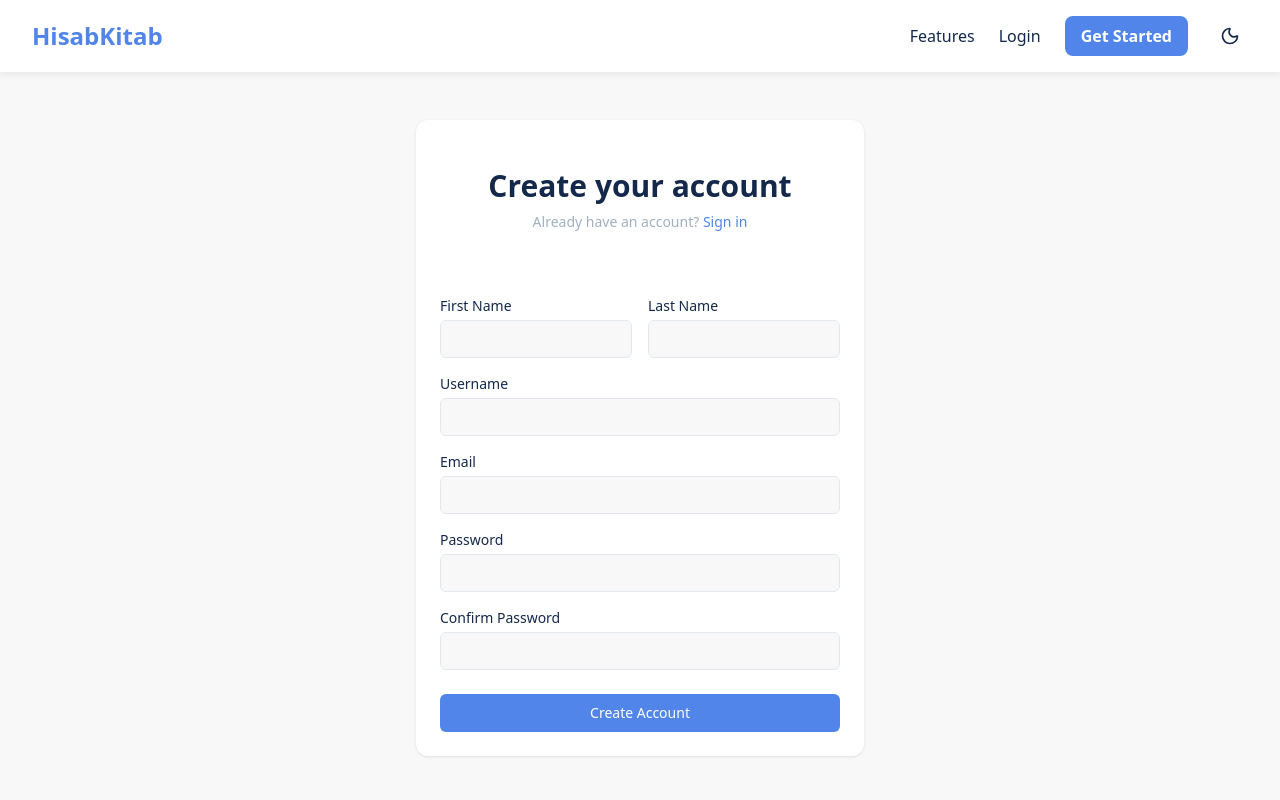
Test: Register Page › should show an error if passwords do not match
Step 1. Type "Yours2" into the field labelled "First Name" → point(536, 339), box x1=440 y1=320 x2=632 y2=358
Step 2. Type "Dev" into the field labelled "Last Name" → point(744, 339), box x1=648 y1=320 x2=840 y2=358
Step 3. Type "yours2dev" into the field labelled "Username" → point(640, 417), box x1=440 y1=398 x2=840 y2=436
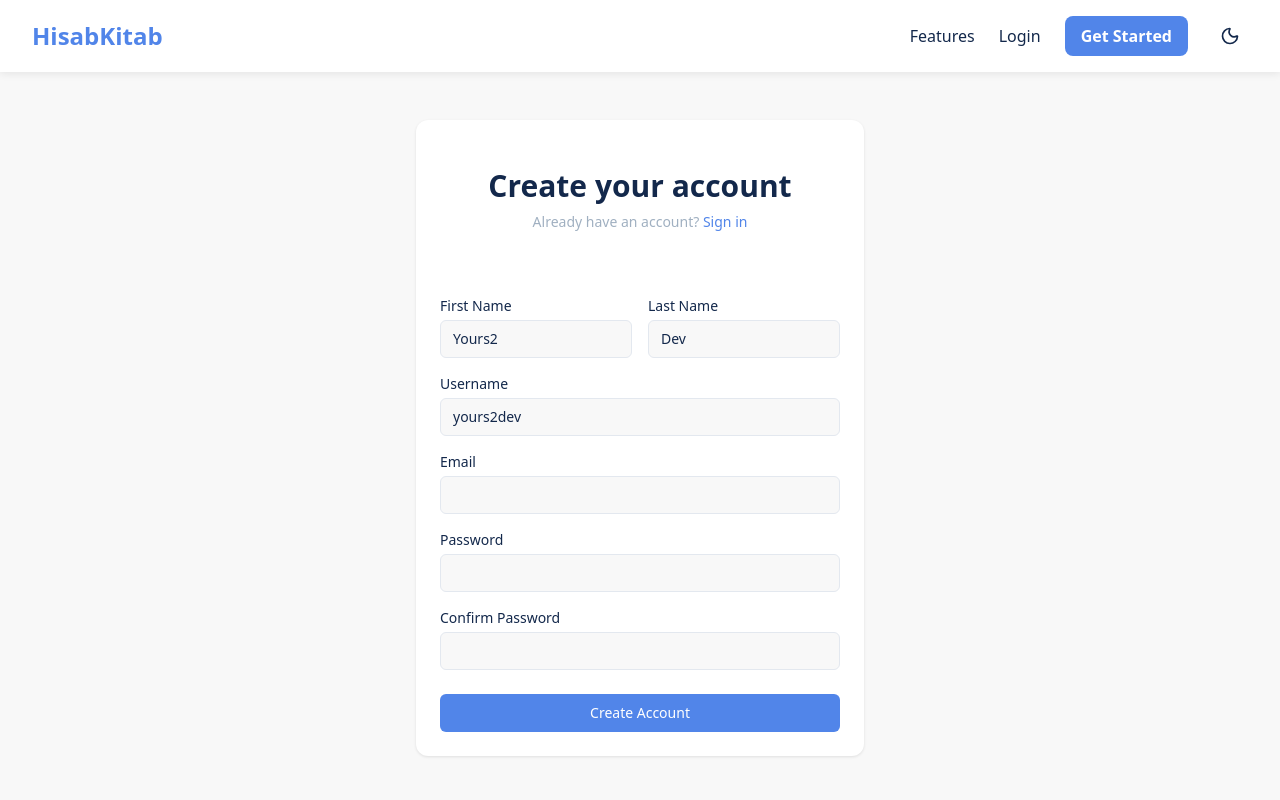
Step 4. Type "yours2@hisabkitab.com" into the field labelled "Email" → point(640, 495), box x1=440 y1=476 x2=840 y2=514
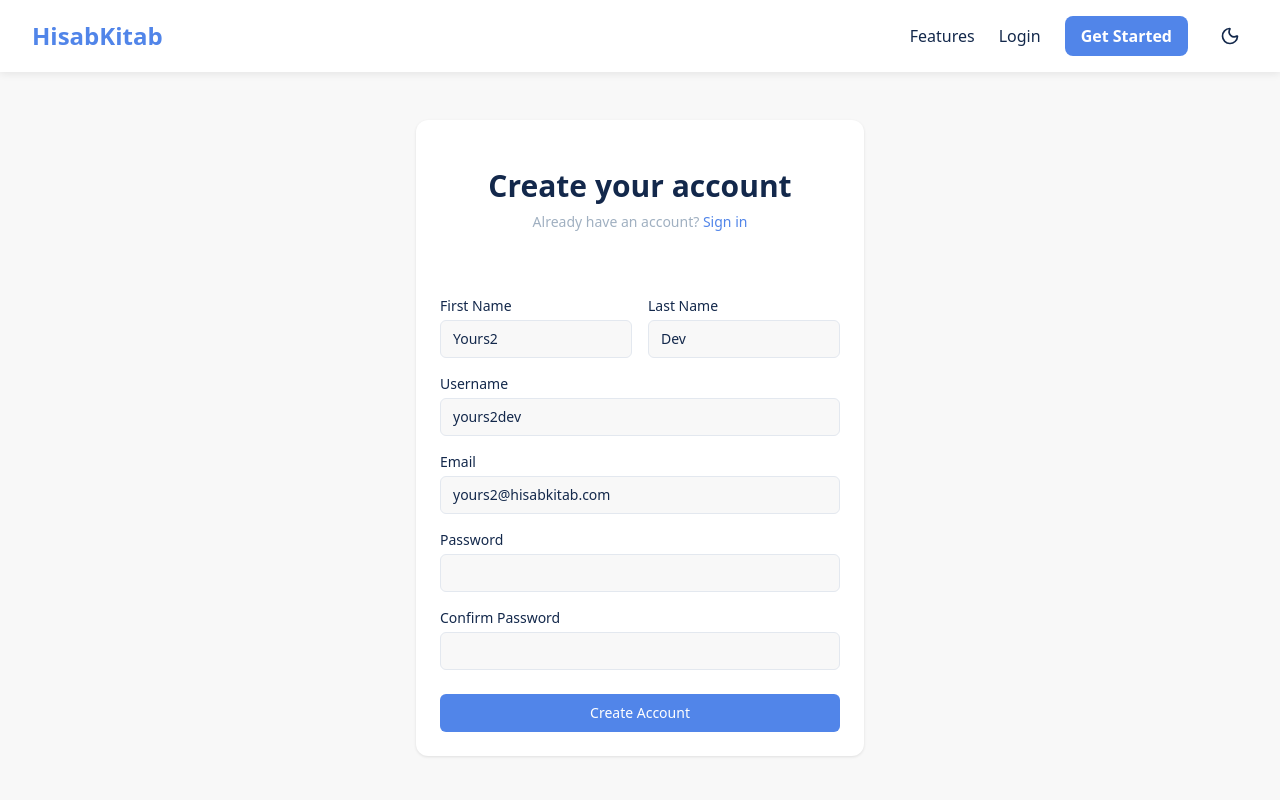
Step 5. Type "password123" into the password field labelled "Password" → point(640, 573), box x1=440 y1=554 x2=840 y2=592
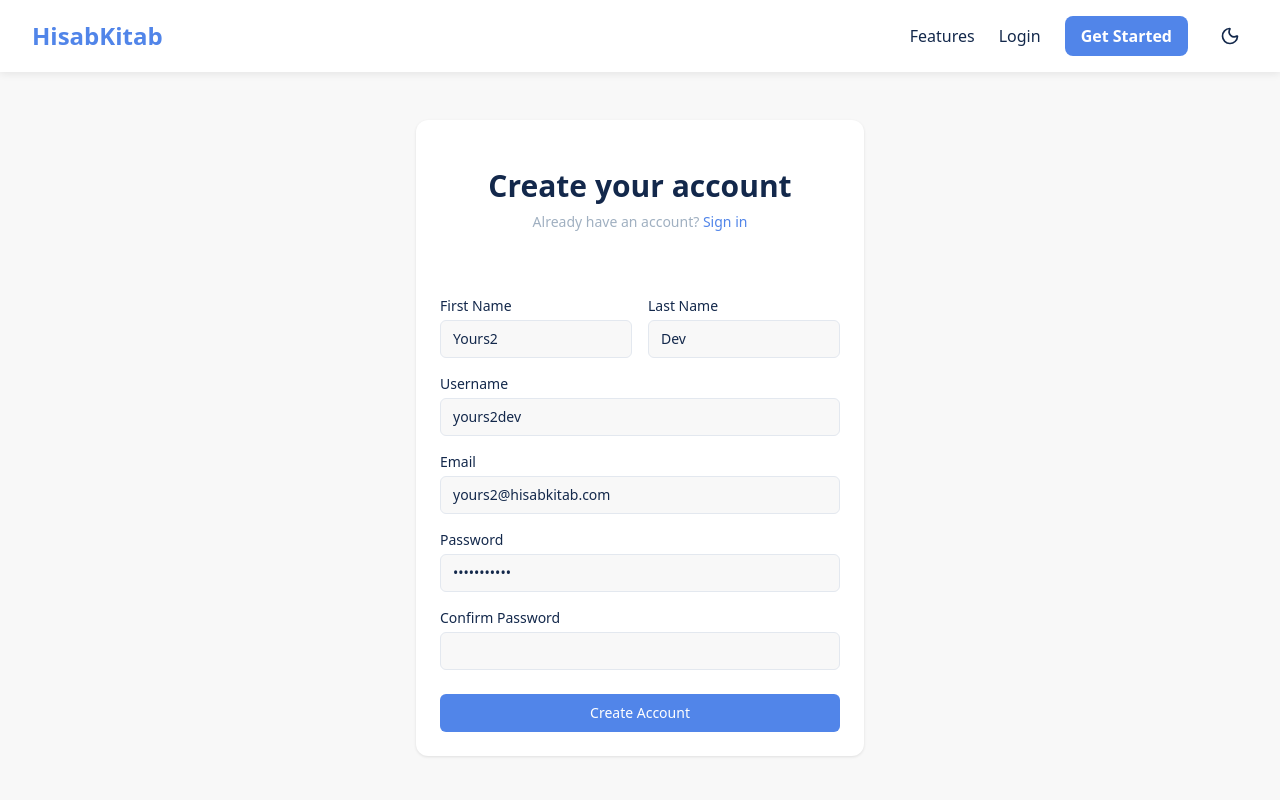
Step 6. Type "password123" into the password field labelled "Confirm Password" → point(640, 651), box x1=440 y1=632 x2=840 y2=670
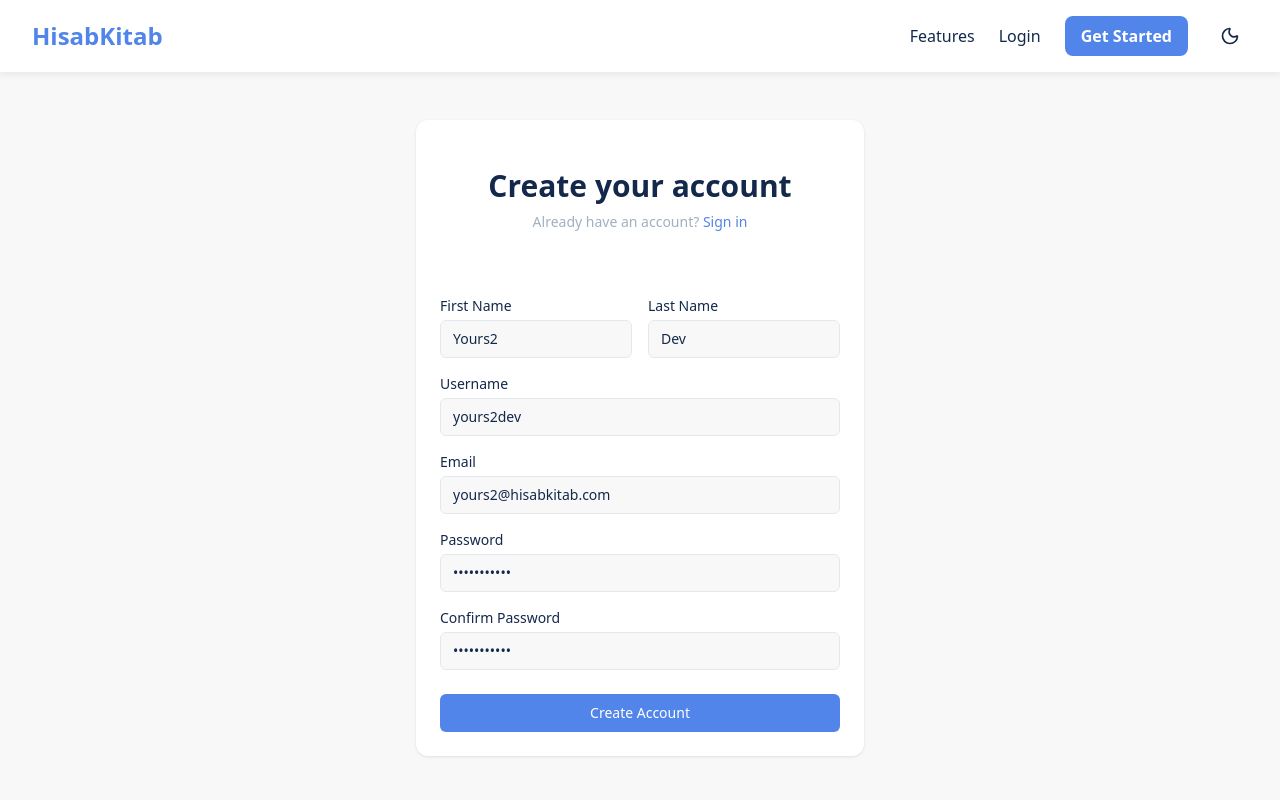
Step 7. Type "mismatch" into the password field labelled "Confirm Password" → point(640, 651), box x1=440 y1=632 x2=840 y2=670
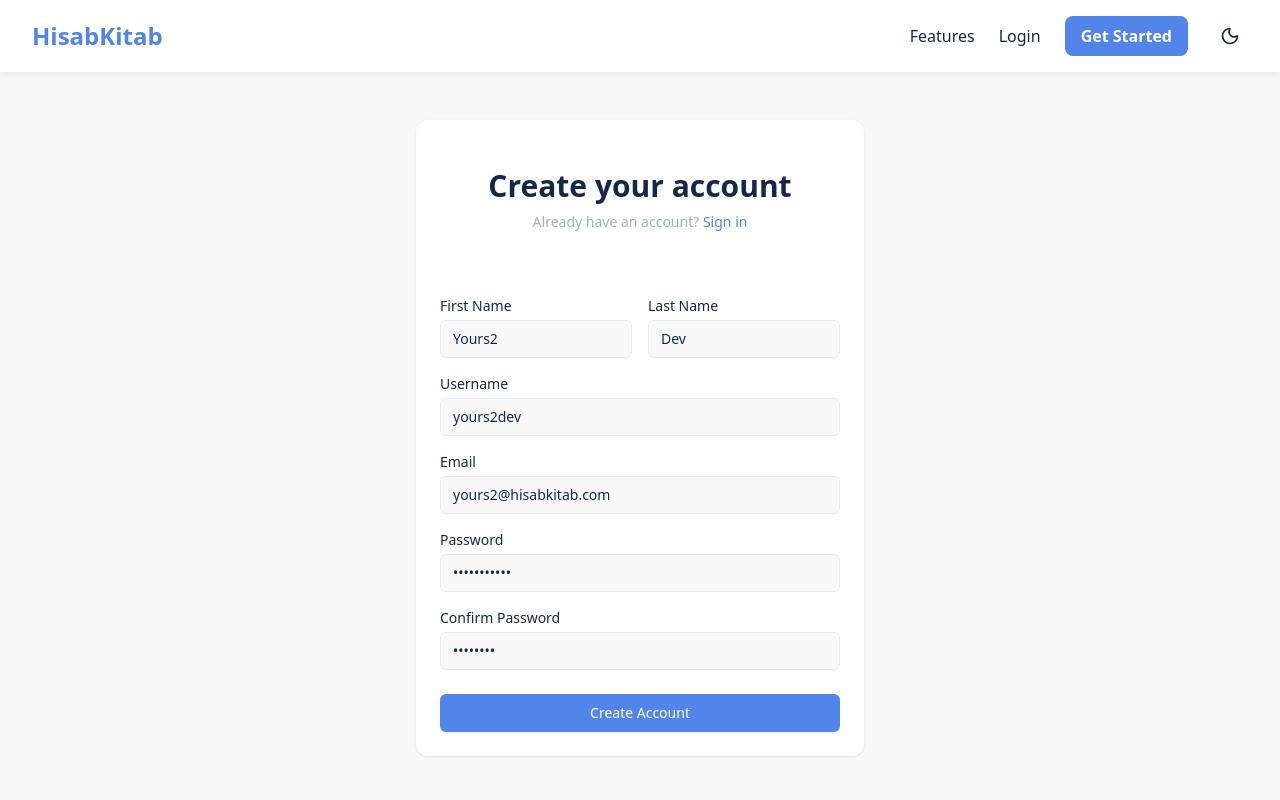
Step 8. Click the button "Create Account" → point(640, 713), box x1=440 y1=694 x2=840 y2=732
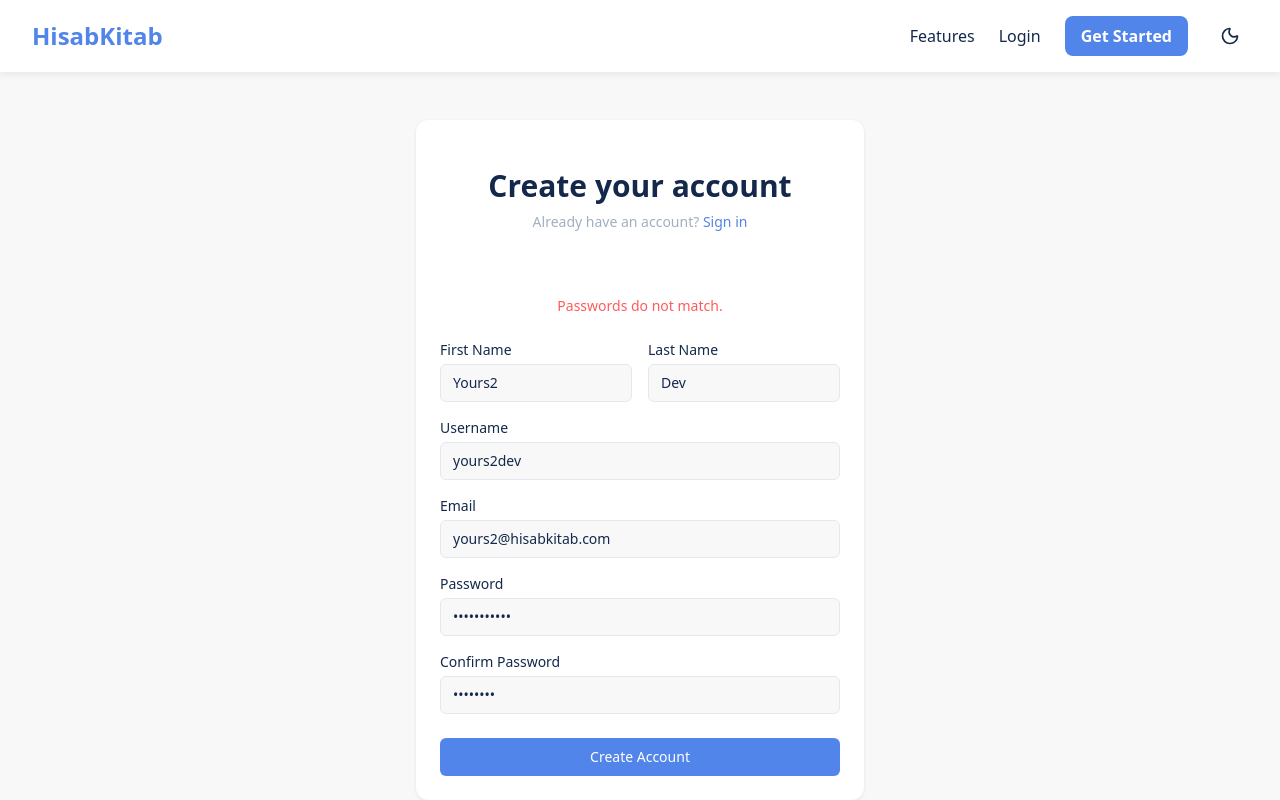
Now the text "Passwords do not match." is shown, box x1=557 y1=296 x2=723 y2=315
